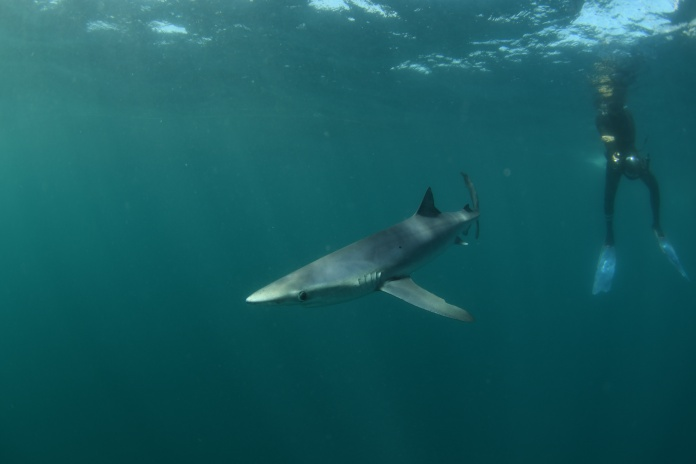Azul: (238, 164, 489, 329)
